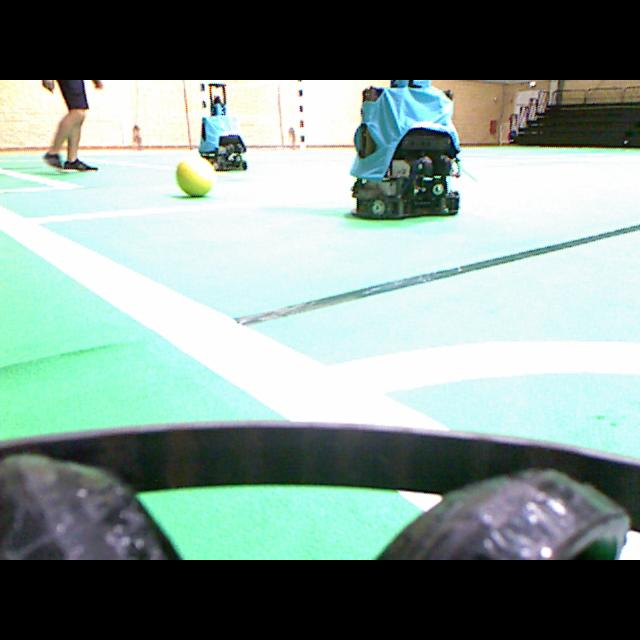ball: (176, 155, 215, 196)
